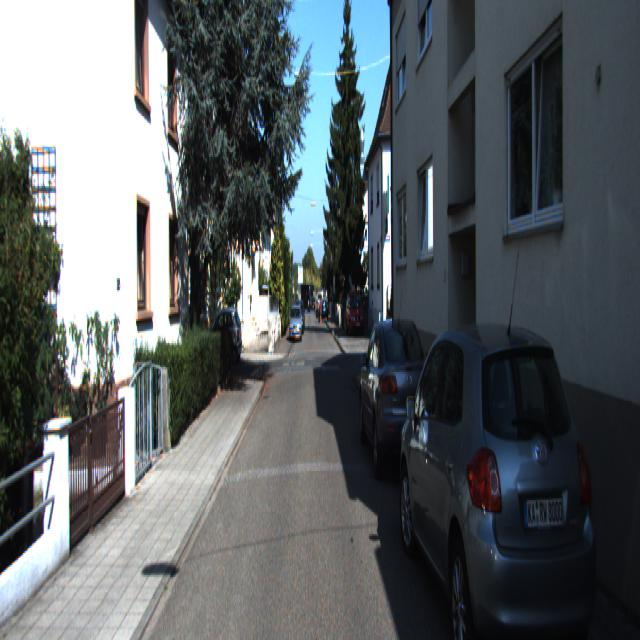Car: (397, 311, 603, 638), (358, 311, 436, 495), (203, 305, 243, 364), (346, 288, 365, 336), (290, 304, 302, 341)
